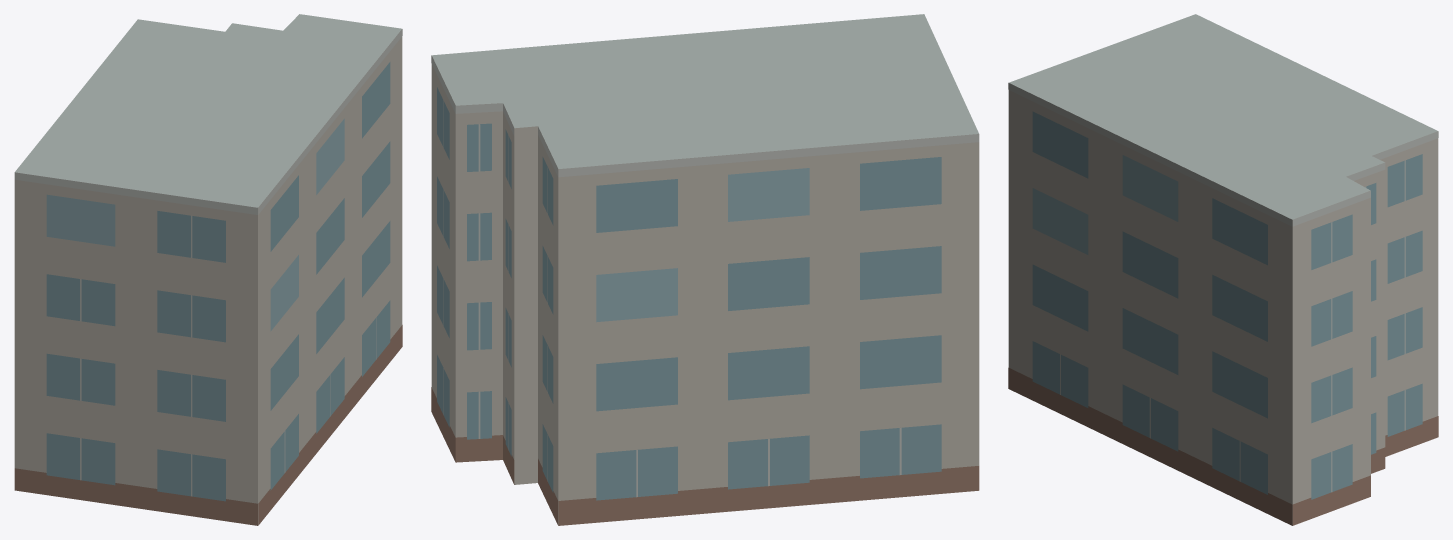
File: survey-upis-32977378.glb
3 views of the same model, side by side, from view 1: azimuth 30°, elevation 25°; view 2: azimuth 150°, elevation 25°; view 3: azimuth 270°, elevation 25° (orthographic). The views are drawn at different scales.
Parts seen in each view (by area): view 1: survey-upis-32977378.tmp; view 2: survey-upis-32977378.tmp; view 3: survey-upis-32977378.tmp.
Part boxes in pixels (bbox=[...]): survey-upis-32977378.tmp: bbox=[14, 14, 402, 525]; survey-upis-32977378.tmp: bbox=[431, 14, 979, 525]; survey-upis-32977378.tmp: bbox=[1008, 14, 1438, 525].
Size of the model in its own units: 15.29 by 10.6 by 13.5.
